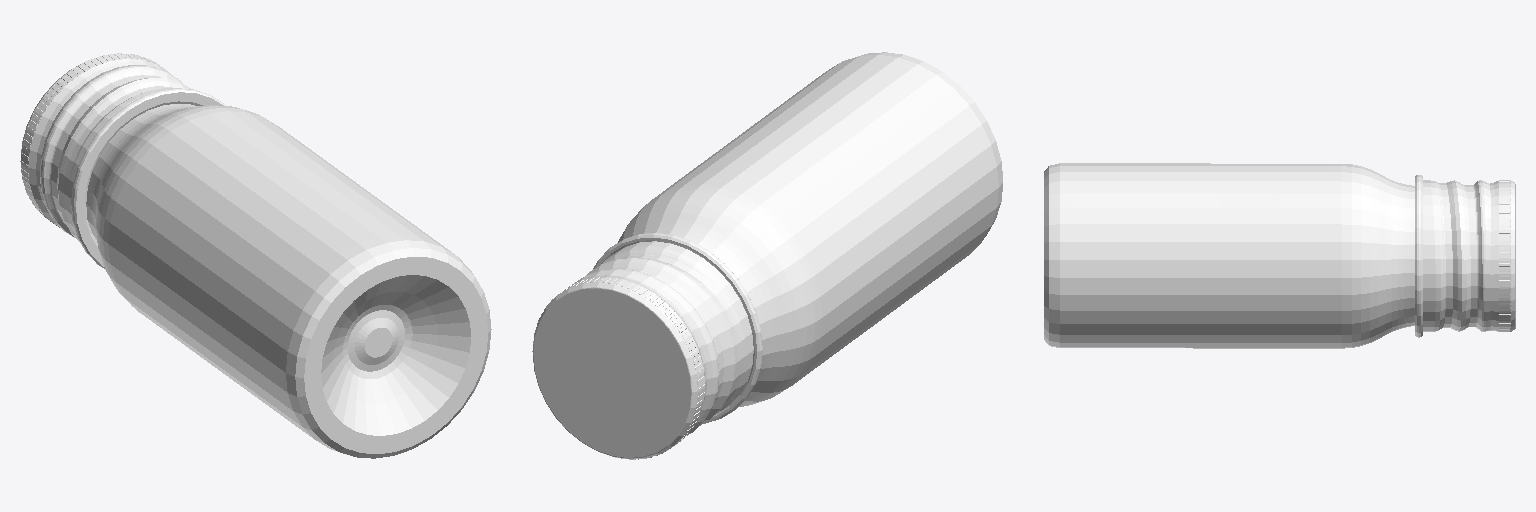
URDF robot description (model.urdf):
<robot name="model.urdf">
  <link name="baseLink">
    <contact>
      <friction_anchor/>
      <lateral_friction value="0.308"/>
      <spinning_friction value="0.001"/>
      <rolling_friction value="0.001"/>
      <contact_cfm value="0.0"/>
      <contact_erp value="1.0"/>
    </contact>
    <inertial>
       <origin rpy="0 0 0" xyz="0.0 0.0 0.0"/>
       <mass value=".0069"/>
       <inertia ixx="1e-3" ixy="0" ixz="0" iyy="1e-3" iyz="0" izz="1e-3"/>
    </inertial>
    <visual>
      <geometry>
        <mesh filename="plastic_jar.obj" scale="1 1 1"/>
      </geometry>
      <material name="white">
        <color rgba="1 1 1 1"/>
      </material>
    </visual>
    <collision>
      <geometry>
        <mesh filename="plastic_jar.obj" scale="1 1 1"/>
      </geometry>
    </collision>
  </link>
</robot>

--- Facts derived from the render (not from the file) ---
Views: 3 orthographic renders of the robot side by side, from view 1: azimuth 30°, elevation 25°; view 2: azimuth 150°, elevation 25°; view 3: azimuth 270°, elevation 25°.
Model model.urdf with 1 links and 0 joints (none), rooted at baseLink, posed all joints at 0.
Links seen in each view (by area): view 1: baseLink; view 2: baseLink; view 3: baseLink.
Boxes of the visible links, x1,y1,x2,y2 form: baseLink: (20,53,491,458); baseLink: (532,52,1002,459); baseLink: (1044,163,1515,348).
Size in the robot's own frame: 0.0311 by 0.0788 by 0.0311 metres.
Meshes: 1 distinct files referenced, 1 mesh visuals loaded (1 OBJ).